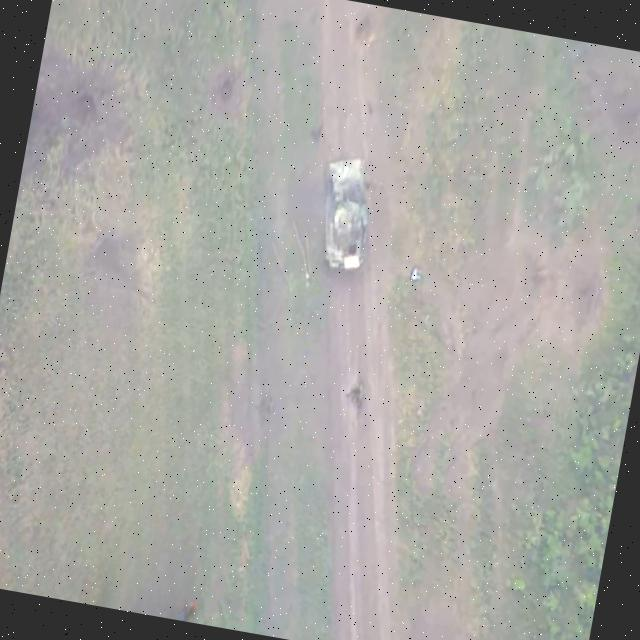AIFV: (305, 150, 387, 283)
